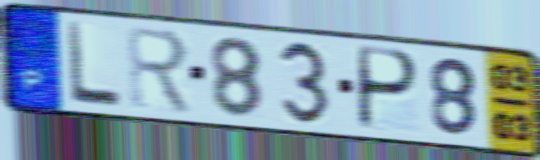3: (276, 37, 333, 129)
8: (208, 35, 265, 120), (427, 54, 480, 139)
L: (64, 19, 124, 111)
P: (355, 44, 422, 134)
R: (124, 23, 196, 118)
